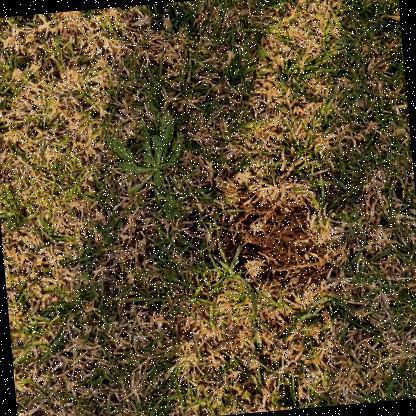Weeds: (105, 110, 187, 226)
